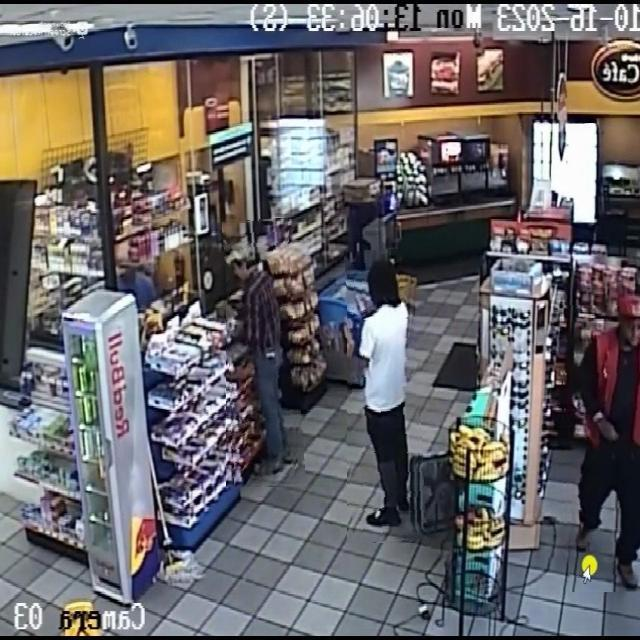Normal: (560, 288, 640, 592), (347, 249, 423, 543), (226, 219, 301, 487)
